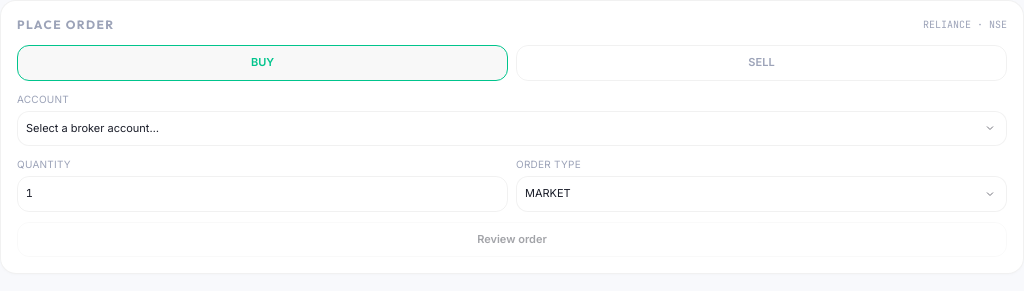
Scenario: the confirmation restates the order › shows the side, quantity, symbol and broker about to be used
Select "Zerodha · XY9999" in the dropdown with test id "order-broker" at point(512, 128), box [17, 111, 1007, 146]
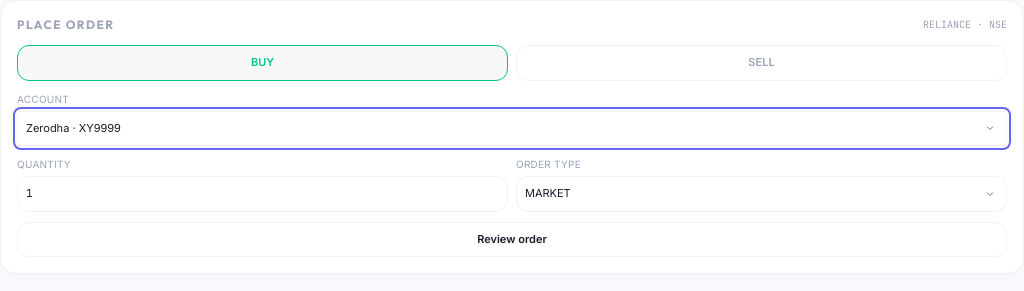
Replace the text in the number field with test id "order-quantity" with "12" at point(262, 194), box [17, 176, 508, 212]
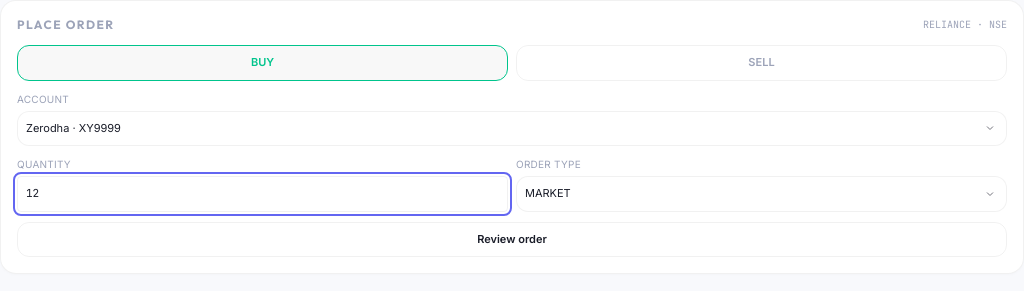
Click the button with test id "order-review" at point(512, 240), box [17, 222, 1007, 257]
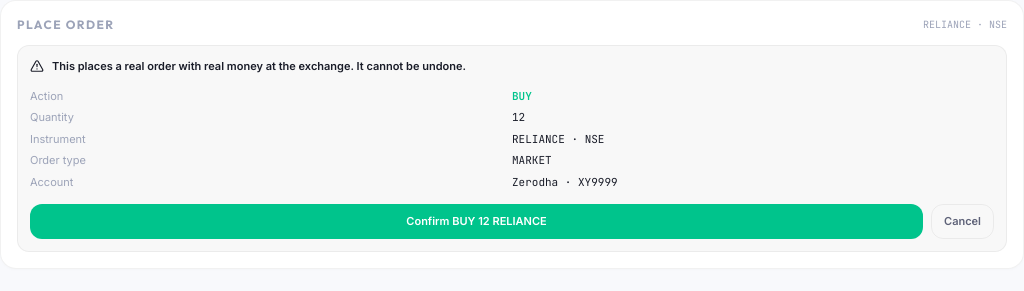
Expected: the element with test id "order-review-panel" shows "12", [512, 110, 525, 124]
Expected: the element with test id "order-review-panel" shows "RELIANCE", [512, 132, 565, 146]
Expected: the element with test id "order-review-panel" shows "Zerodha", [512, 175, 558, 189]
